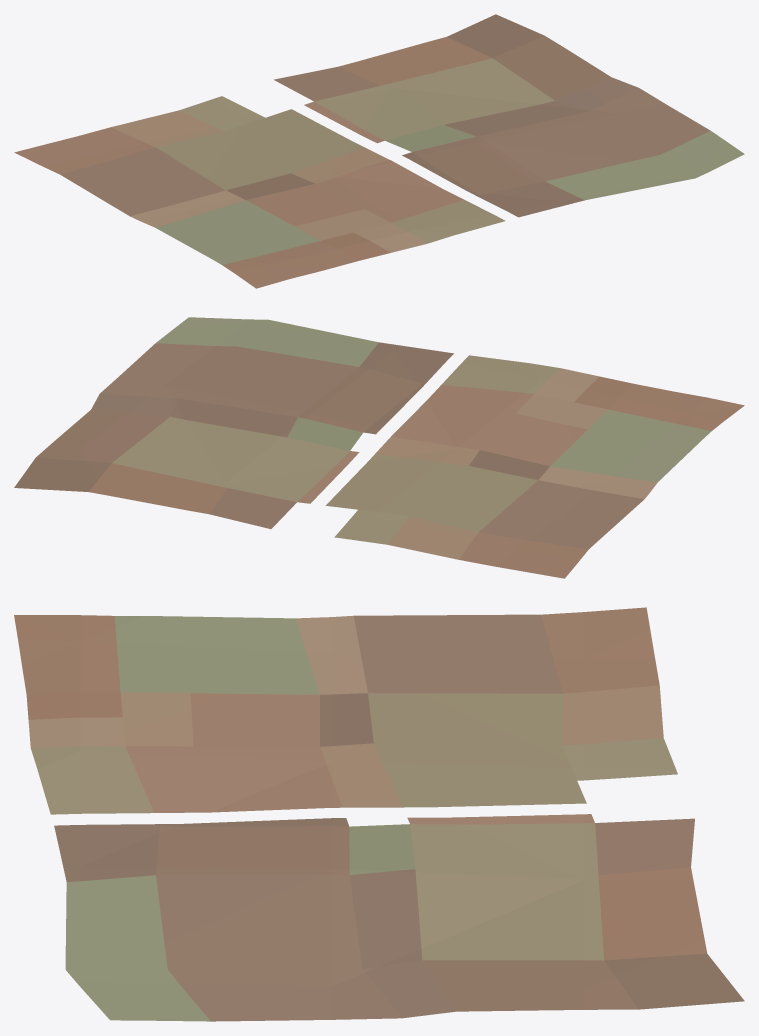
The model's file is farm_12_19_soil.glb.
3 views of the same model, one above another, from view 1: azimuth 30°, elevation 25°; view 2: azimuth 150°, elevation 25°; view 3: azimuth 270°, elevation 25° (orthographic). The views are drawn at different scales.
Visible parts, largest first — view 1: geometry_0; view 2: geometry_0; view 3: geometry_0.
Part boxes in pixels (x1=…): geometry_0: x1=14, y1=14, x2=744, y2=288; geometry_0: x1=14, y1=317, x2=744, y2=578; geometry_0: x1=14, y1=607, x2=744, y2=1021.
Size of the model in its own units: 304 by 11.45 by 232.
